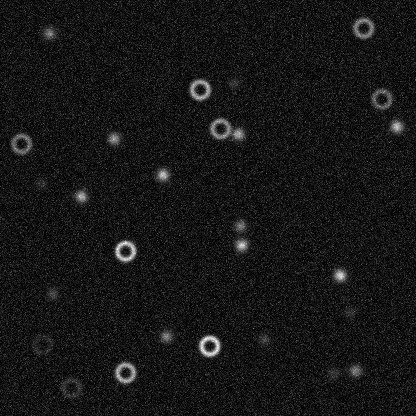Ring: (351, 15, 375, 39), (197, 333, 221, 357), (59, 375, 83, 399), (113, 238, 137, 262), (208, 116, 232, 140), (29, 332, 53, 356), (369, 86, 393, 110), (187, 77, 211, 101), (113, 360, 137, 384), (9, 131, 33, 155)
Spot: (158, 328, 174, 344), (388, 118, 404, 134), (325, 365, 341, 381), (44, 285, 60, 301), (33, 176, 49, 192), (331, 267, 347, 283), (347, 362, 363, 378), (105, 130, 121, 146), (341, 303, 357, 319), (256, 331, 272, 347), (233, 236, 249, 252), (229, 125, 245, 141), (73, 188, 89, 204), (154, 166, 170, 182), (41, 24, 57, 40), (232, 217, 248, 233), (226, 74, 242, 90)
